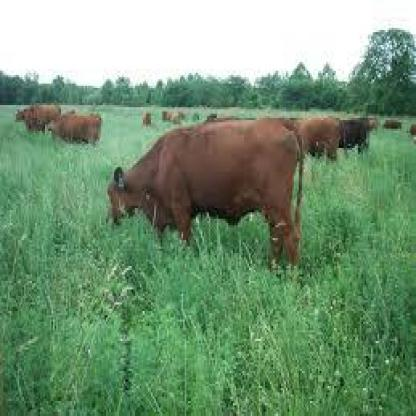cow: (108, 118, 304, 272), (284, 116, 338, 161), (48, 111, 101, 146), (337, 116, 370, 154), (15, 104, 59, 132)
